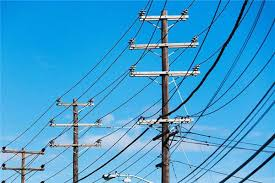utility_pole: (122, 4, 206, 90), (45, 89, 111, 154)
